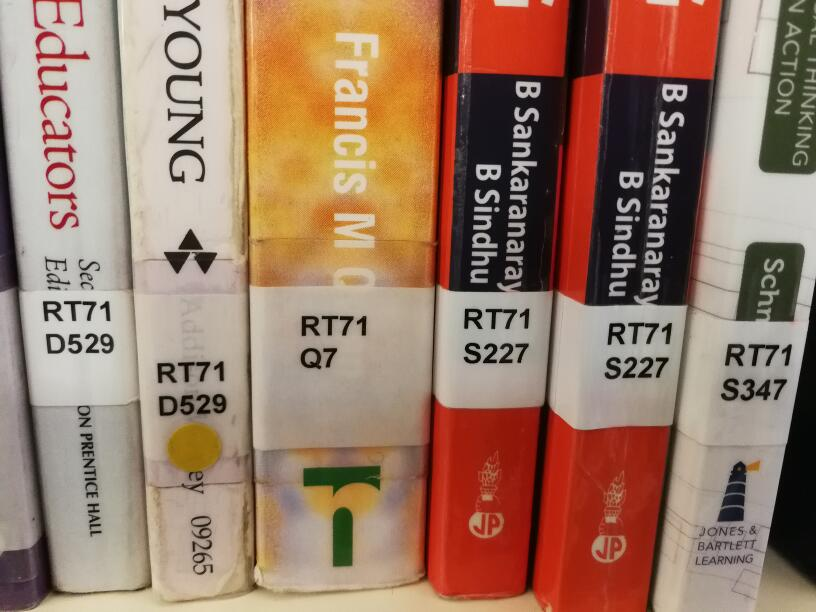booklabel: (718, 340, 794, 403), (39, 297, 118, 357), (460, 305, 532, 367), (152, 358, 227, 417), (603, 320, 674, 379), (299, 312, 371, 370)
